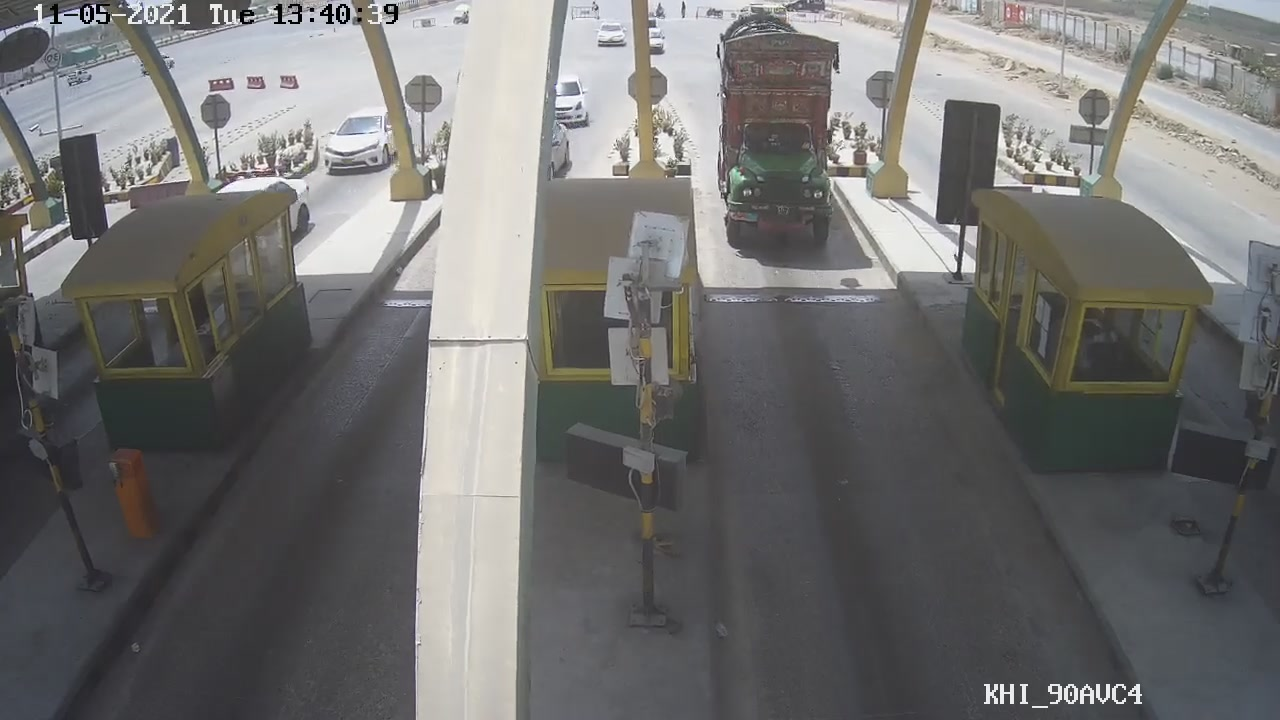F5: (704, 17, 861, 257)
